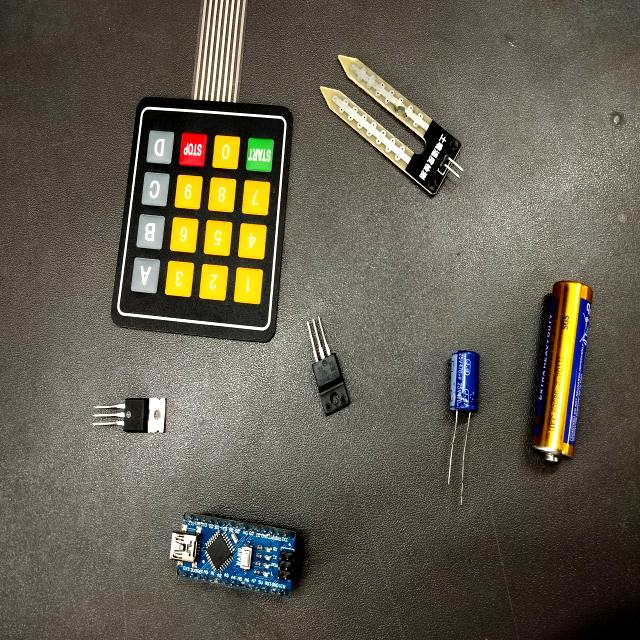capacitor: (451, 350, 479, 416)
